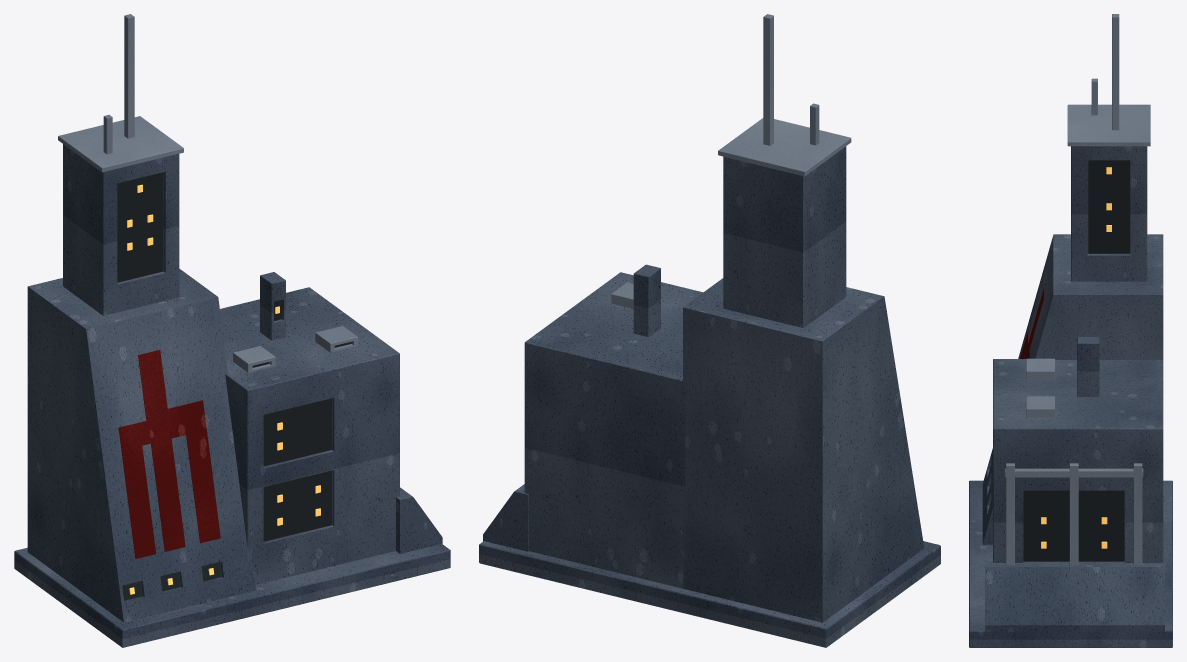
3 views of the same model, side by side, from view 1: azimuth 30°, elevation 25°; view 2: azimuth 150°, elevation 25°; view 3: azimuth 270°, elevation 25° (orthographic). The views are drawn at different scales.
Visible parts, largest first — view 1: Arms Block tall inclined emblem block, Arms Block lower connected service block, Arms Block dark blind backings, Arms Block square upper tower, Arms Block low rectangular cast plinth, Arms Block red industrial mark, Arms Block pale roof and end assemblies, Arms Block low projecting sloping end foot, Arms Block short lower roof service post, Arms Block twenty-two source amber points; view 2: Arms Block tall inclined emblem block, Arms Block lower connected service block, Arms Block square upper tower, Arms Block low rectangular cast plinth, Arms Block pale roof and end assemblies, Arms Block low projecting sloping end foot, Arms Block short lower roof service post; view 3: Arms Block lower connected service block, Arms Block tall inclined emblem block, Arms Block low projecting sloping end foot, Arms Block dark blind backings, Arms Block pale roof and end assemblies, Arms Block low rectangular cast plinth, Arms Block square upper tower, Arms Block short lower roof service post, Arms Block red industrial mark, Arms Block twenty-two source amber points.
Part boxes in pixels (x1=…): Arms Block tall inclined emblem block: x1=27, y1=268, x2=255, y2=622; Arms Block lower connected service block: x1=220, y1=287, x2=399, y2=584; Arms Block dark blind backings: x1=117, y1=172, x2=351, y2=600; Arms Block square upper tower: x1=63, y1=144, x2=179, y2=315; Arms Block low rectangular cast plinth: x1=14, y1=544, x2=450, y2=647; Arms Block red industrial mark: x1=118, y1=350, x2=220, y2=558; Arms Block pale roof and end assemblies: x1=58, y1=14, x2=357, y2=372; Arms Block low projecting sloping end foot: x1=396, y1=487, x2=442, y2=553; Arms Block short lower roof service post: x1=260, y1=272, x2=285, y2=340; Arms Block twenty-two source amber points: x1=127, y1=184, x2=320, y2=594; Arms Block tall inclined emblem block: x1=683, y1=278, x2=924, y2=622; Arms Block lower connected service block: x1=524, y1=272, x2=702, y2=588; Arms Block square upper tower: x1=723, y1=146, x2=846, y2=327; Arms Block low rectangular cast plinth: x1=479, y1=541, x2=940, y2=647; Arms Block pale roof and end assemblies: x1=611, y1=14, x2=851, y2=308; Arms Block low projecting sloping end foot: x1=483, y1=484, x2=528, y2=551; Arms Block short lower roof service post: x1=633, y1=264, x2=660, y2=337; Arms Block lower connected service block: x1=993, y1=359, x2=1163, y2=562; Arms Block tall inclined emblem block: x1=982, y1=234, x2=1163, y2=544; Arms Block low projecting sloping end foot: x1=985, y1=561, x2=1164, y2=631; Arms Block dark blind backings: x1=1023, y1=160, x2=1130, y2=561; Arms Block pale roof and end assemblies: x1=1005, y1=14, x2=1150, y2=565; Arms Block low rectangular cast plinth: x1=969, y1=480, x2=1172, y2=647; Arms Block square upper tower: x1=1071, y1=146, x2=1147, y2=281; Arms Block short lower roof service post: x1=1077, y1=337, x2=1099, y2=396; Arms Block red industrial mark: x1=1020, y1=288, x2=1044, y2=358; Arms Block twenty-two source amber points: x1=1041, y1=167, x2=1111, y2=548.
Size of the model in its own units: 2.24 by 3.61 by 1.28.
Materials: 5 (3 with a texture image).
